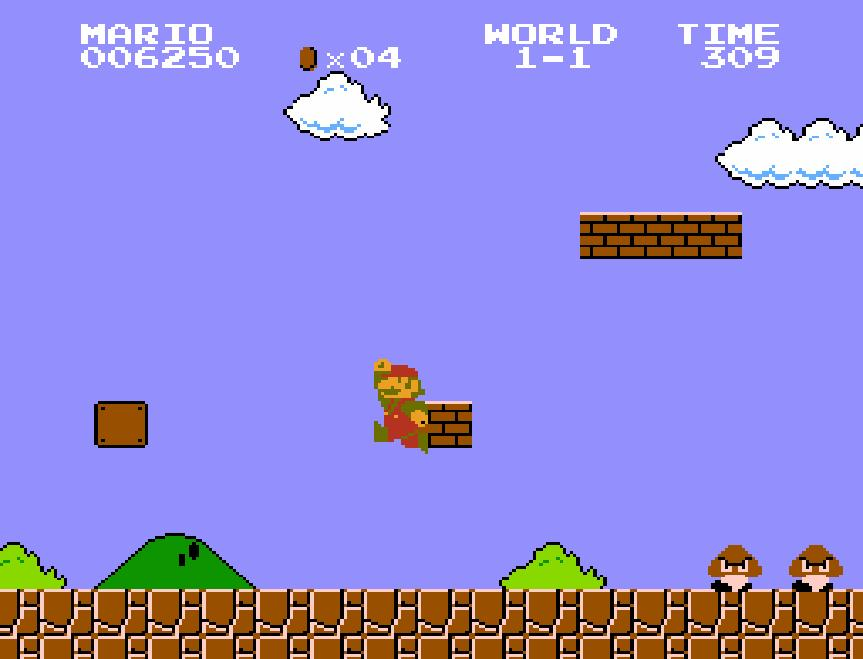big_mario: (372, 357, 430, 456)
